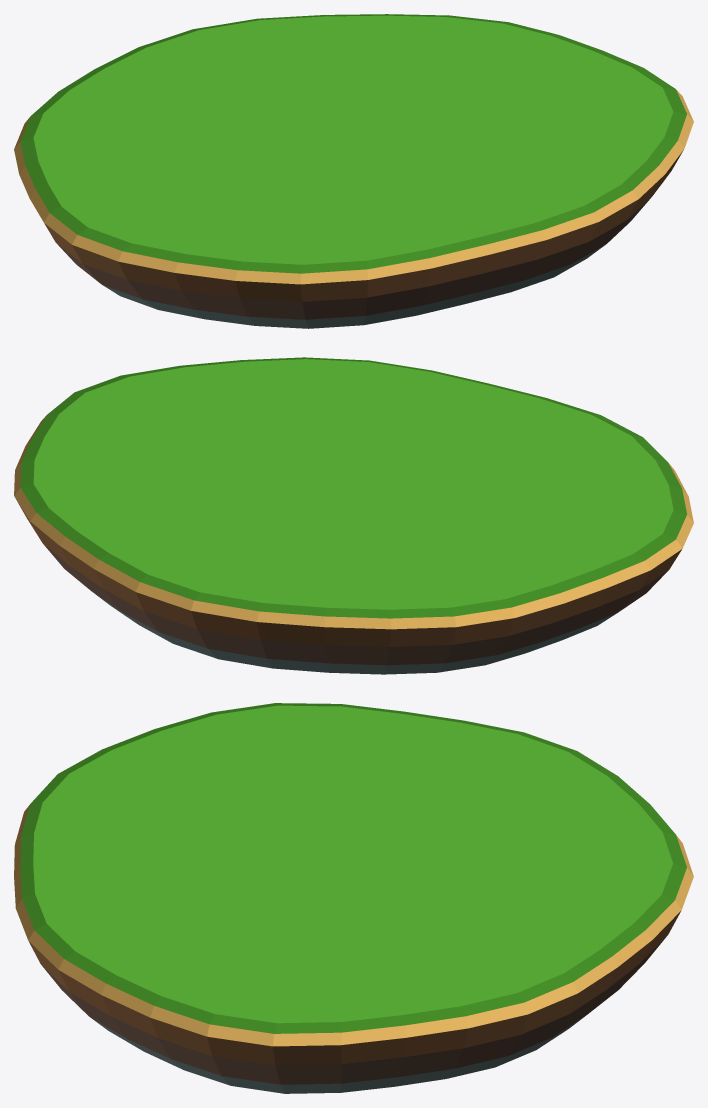
Rendered from stage_select_hub_island.obj.
3 views of the same model, one above another, from view 1: azimuth 30°, elevation 25°; view 2: azimuth 150°, elevation 25°; view 3: azimuth 270°, elevation 25° (orthographic). The views are drawn at different scales.
Visible parts, largest first — view 1: stage_select_hub_island; view 2: stage_select_hub_island; view 3: stage_select_hub_island.
Boxes of the visible parts, box(x1,y1,x2,y2) form: stage_select_hub_island: box(14, 14, 693, 328); stage_select_hub_island: box(14, 357, 693, 674); stage_select_hub_island: box(14, 703, 693, 1093).
Size of the model in its own units: 57.5 by 7.2 by 48.96.
